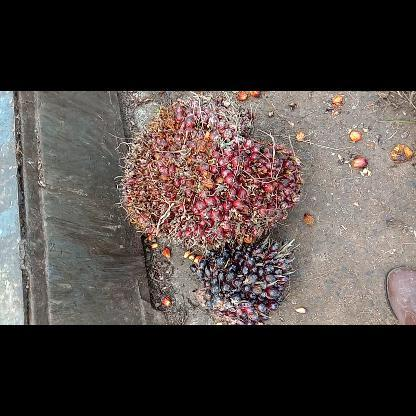TBS abnormal: (190, 234, 292, 324)
TBS masak: (110, 97, 304, 249)
